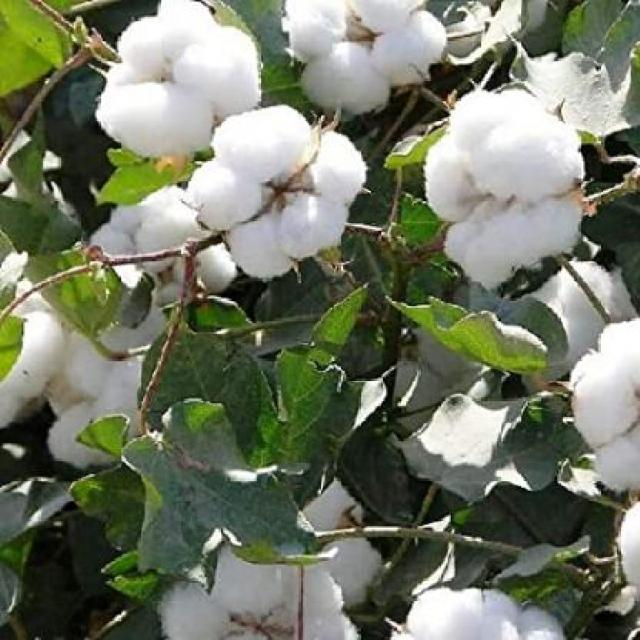cotton_ready: (412, 72, 588, 285), (177, 114, 374, 301), (72, 2, 268, 162), (136, 532, 390, 639), (283, 1, 440, 117)
